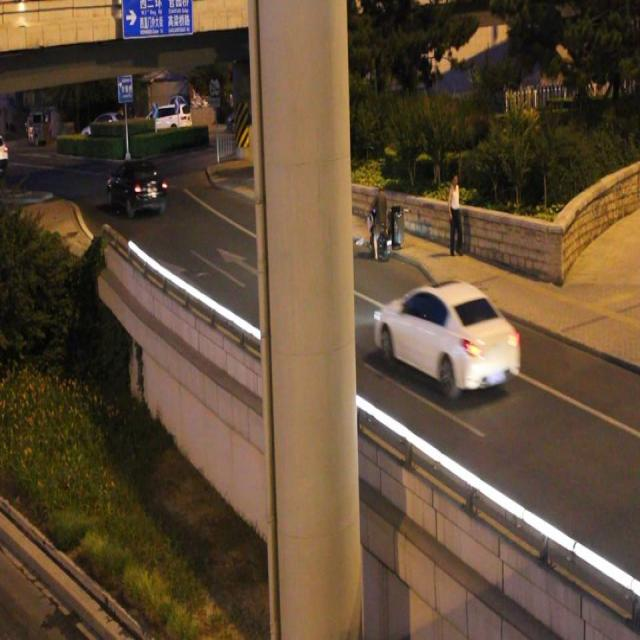car: (374, 278, 520, 394), (105, 157, 167, 219)
